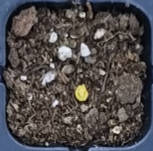pepper seed: (29, 33, 119, 135)
